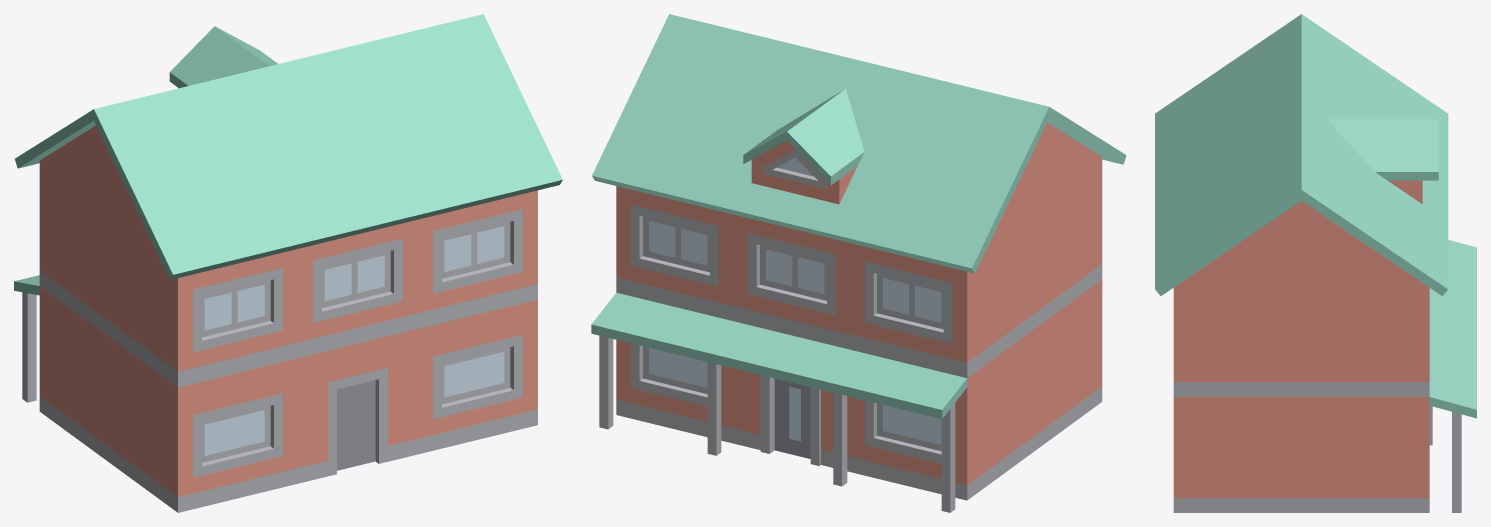
The model's file is Two story house-sGgL4Nt7I7.glb.
3 views of the same model, side by side, from view 1: azimuth 30°, elevation 25°; view 2: azimuth 150°, elevation 25°; view 3: azimuth 270°, elevation 25° (orthographic). The views are drawn at different scales.
Parts seen in each view (by area): view 1: house_type12; view 2: house_type12; view 3: house_type12.
Part boxes in pixels (x1=…): house_type12: x1=14, y1=14, x2=562, y2=512; house_type12: x1=591, y1=14, x2=1126, y2=512; house_type12: x1=1155, y1=14, x2=1476, y2=512.
Bounding box in the file's own units: 1.3 × 1.14 × 1.01.
